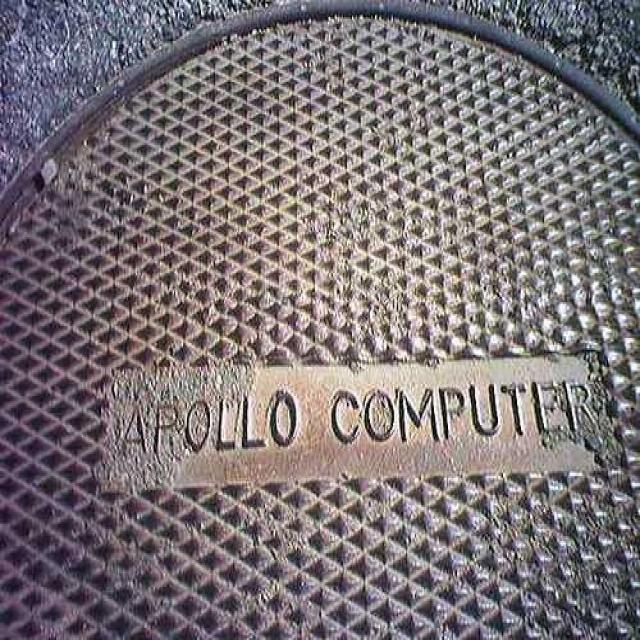manhole: (0, 18, 640, 637)
